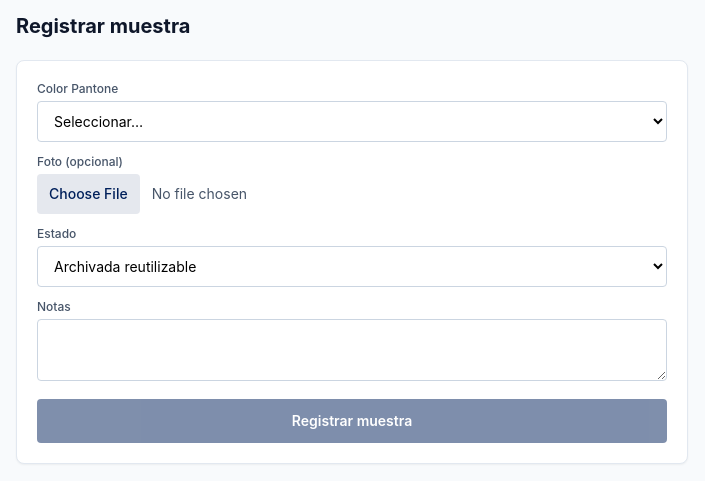
Test: SampleRegistrationPage (mobile-first, ≤3 taps) › keeps the register action off until a target is chosen, so the flow needs few taps
Expected: the button "Registrar muestra" is disabled, [37,399,667,443]
Select "2210 U" in the dropdown labelled "Color Pantone" at (352, 122), box [37,101,667,142]
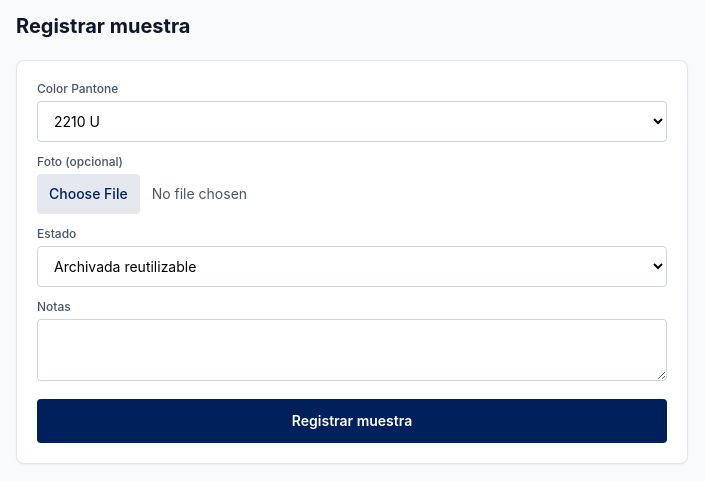
Expected: the button "Registrar muestra" is enabled, [37,399,667,443]
